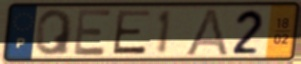1: (155, 8, 173, 56)
2: (230, 6, 267, 58)
A: (182, 6, 231, 57)
E: (72, 7, 114, 57), (110, 8, 153, 56)
Q: (34, 8, 75, 58)
